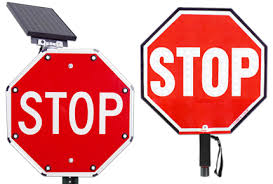stop sign: (6, 47, 134, 178), (140, 6, 267, 133)
